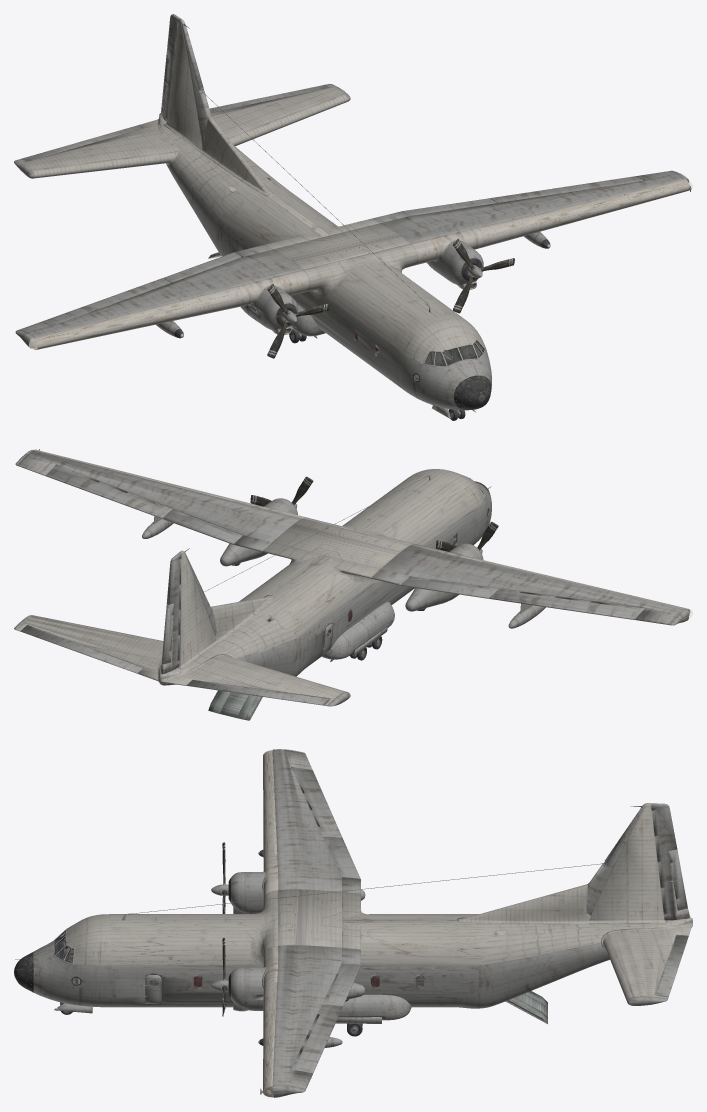
File: cargo_cargo_plane.glb
The picture shows the model from 3 angles, top to bottom: view 1: azimuth 30°, elevation 25°; view 2: azimuth 150°, elevation 25°; view 3: azimuth 270°, elevation 25°; orthographic projection. The views are drawn at different scales.
Parts seen in each view (by area): view 1: KB3D_SOL_VehicCargoPlane_A_Body_A, KB3D_SOL_VehicCargoPlane_A_BodyWingR_A, KB3D_SOL_VehicCargoPlane_A_BodyWingL_A, KB3D_SOL_VehicCargoPlane_A_BodyVStabilizer_A, KB3D_SOL_VehicCargoPlane_A_BodyHStabilizerR_A, KB3D_SOL_VehicCargoPlane_A_BodyHStabilizerL_A, KB3D_SOL_VehicCargoPlane_A_BodyEngineR_A, KB3D_SOL_VehicCargoPlane_A_BodyEngineL_A, KB3D_SOL_VehicCargoPlane_A_WingFlapLgR_A, KB3D_SOL_VehicCargoPlane_A_WingFlapLgL_A, KB3D_SOL_VehicCargoPlane_A_EngineRotor_A, KB3D_SOL_VehicCargoPlane_A_EngineRotor_A.001 (+4 smaller); view 2: KB3D_SOL_VehicCargoPlane_A_Body_A, KB3D_SOL_VehicCargoPlane_A_BodyWingR_A, KB3D_SOL_VehicCargoPlane_A_BodyWingL_A, KB3D_SOL_VehicCargoPlane_A_BodyVStabilizer_A, KB3D_SOL_VehicCargoPlane_A_BodyHStabilizerR_A, KB3D_SOL_VehicCargoPlane_A_BodyHStabilizerL_A, KB3D_SOL_VehicCargoPlane_A_WingFlapLgR_A, KB3D_SOL_VehicCargoPlane_A_WingFlapLgL_A, KB3D_SOL_VehicCargoPlane_A_BodyLandingFairingsR_A, KB3D_SOL_VehicCargoPlane_A_VertStabFlap_A, KB3D_SOL_VehicCargoPlane_A_CargoDoorRamp_A, KB3D_SOL_VehicCargoPlane_A_BodyEngineR_A (+7 smaller); view 3: KB3D_SOL_VehicCargoPlane_A_Body_A, KB3D_SOL_VehicCargoPlane_A_BodyVStabilizer_A, KB3D_SOL_VehicCargoPlane_A_BodyWingL_A, KB3D_SOL_VehicCargoPlane_A_BodyWingR_A, KB3D_SOL_VehicCargoPlane_A_BodyHStabilizerL_A, KB3D_SOL_VehicCargoPlane_A_VertStabFlap_A, KB3D_SOL_VehicCargoPlane_A_BodyEngineL_A, KB3D_SOL_VehicCargoPlane_A_WingFlapLgL_A, KB3D_SOL_VehicCargoPlane_A_BodyLandingFairingsL_A, KB3D_SOL_VehicCargoPlane_A_BodyEngineR_A, KB3D_SOL_VehicCargoPlane_A_WingFlapLgR_A, KB3D_SOL_VehicCargoPlane_A_WingFlapSmL_A (+5 smaller).
Part boxes in pixels (bbox=[...]): KB3D_SOL_VehicCargoPlane_A_Body_A: bbox=[159, 113, 491, 410]; KB3D_SOL_VehicCargoPlane_A_BodyWingR_A: bbox=[15, 245, 309, 349]; KB3D_SOL_VehicCargoPlane_A_BodyWingL_A: bbox=[372, 170, 692, 265]; KB3D_SOL_VehicCargoPlane_A_BodyVStabilizer_A: bbox=[163, 18, 430, 312]; KB3D_SOL_VehicCargoPlane_A_BodyHStabilizerR_A: bbox=[14, 119, 178, 178]; KB3D_SOL_VehicCargoPlane_A_BodyHStabilizerL_A: bbox=[210, 84, 350, 146]; KB3D_SOL_VehicCargoPlane_A_BodyEngineR_A: bbox=[240, 285, 297, 335]; KB3D_SOL_VehicCargoPlane_A_BodyEngineL_A: bbox=[426, 240, 483, 289]; KB3D_SOL_VehicCargoPlane_A_WingFlapLgR_A: bbox=[46, 278, 170, 324]; KB3D_SOL_VehicCargoPlane_A_WingFlapLgL_A: bbox=[490, 176, 643, 202]; KB3D_SOL_VehicCargoPlane_A_EngineRotor_A: bbox=[267, 284, 329, 358]; KB3D_SOL_VehicCargoPlane_A_EngineRotor_A.001: bbox=[453, 239, 514, 313]; KB3D_SOL_VehicCargoPlane_A_Body_A: bbox=[159, 469, 491, 685]; KB3D_SOL_VehicCargoPlane_A_BodyWingR_A: bbox=[372, 544, 692, 625]; KB3D_SOL_VehicCargoPlane_A_BodyWingL_A: bbox=[15, 449, 305, 552]; KB3D_SOL_VehicCargoPlane_A_BodyVStabilizer_A: bbox=[177, 475, 430, 669]; KB3D_SOL_VehicCargoPlane_A_BodyHStabilizerR_A: bbox=[161, 654, 350, 706]; KB3D_SOL_VehicCargoPlane_A_BodyHStabilizerL_A: bbox=[14, 615, 163, 682]; KB3D_SOL_VehicCargoPlane_A_WingFlapLgR_A: bbox=[490, 589, 644, 619]; KB3D_SOL_VehicCargoPlane_A_WingFlapLgL_A: bbox=[46, 465, 172, 518]; KB3D_SOL_VehicCargoPlane_A_BodyLandingFairingsR_A: bbox=[322, 602, 394, 659]; KB3D_SOL_VehicCargoPlane_A_VertStabFlap_A: bbox=[161, 552, 181, 673]; KB3D_SOL_VehicCargoPlane_A_CargoDoorRamp_A: bbox=[208, 690, 262, 720]; KB3D_SOL_VehicCargoPlane_A_BodyEngineR_A: bbox=[405, 543, 483, 611]; KB3D_SOL_VehicCargoPlane_A_Body_A: bbox=[14, 889, 692, 1008]; KB3D_SOL_VehicCargoPlane_A_BodyVStabilizer_A: bbox=[122, 803, 667, 924]; KB3D_SOL_VehicCargoPlane_A_BodyWingL_A: bbox=[260, 945, 360, 1097]; KB3D_SOL_VehicCargoPlane_A_BodyWingR_A: bbox=[263, 749, 360, 898]; KB3D_SOL_VehicCargoPlane_A_BodyHStabilizerL_A: bbox=[601, 923, 692, 1005]; KB3D_SOL_VehicCargoPlane_A_VertStabFlap_A: bbox=[651, 803, 689, 920]; KB3D_SOL_VehicCargoPlane_A_BodyEngineL_A: bbox=[228, 967, 365, 1011]; KB3D_SOL_VehicCargoPlane_A_WingFlapLgL_A: bbox=[291, 1004, 342, 1073]; KB3D_SOL_VehicCargoPlane_A_BodyLandingFairingsL_A: bbox=[338, 994, 411, 1020]; KB3D_SOL_VehicCargoPlane_A_BodyEngineR_A: bbox=[228, 871, 365, 913]; KB3D_SOL_VehicCargoPlane_A_WingFlapLgR_A: bbox=[291, 767, 342, 837]; KB3D_SOL_VehicCargoPlane_A_WingFlapSmL_A: bbox=[322, 964, 360, 1006].
Size of the model in its own units: 38 by 11.01 by 32.09.
Materials: 21 (21 with a texture image).
